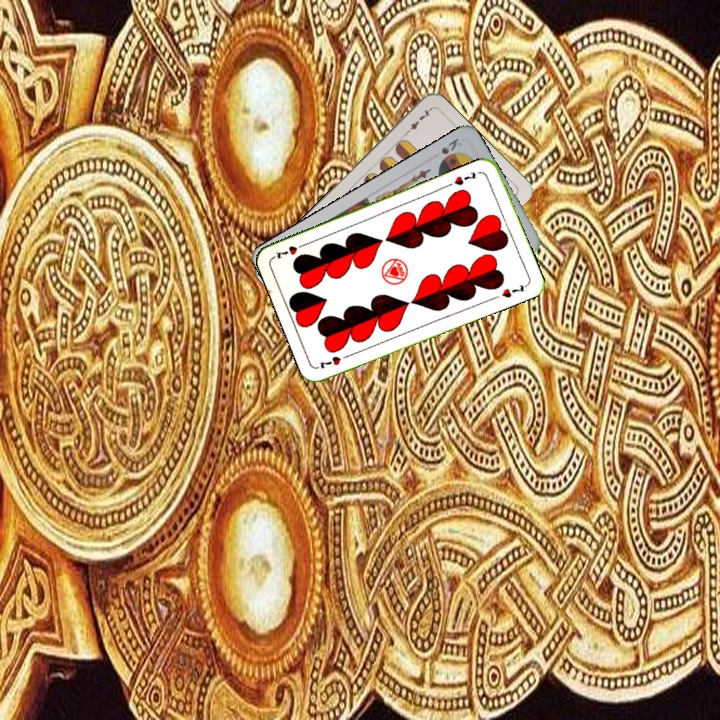E7: (401, 105, 433, 137)
H7: (314, 350, 353, 371), (450, 168, 479, 188)
SK: (437, 134, 464, 157)
